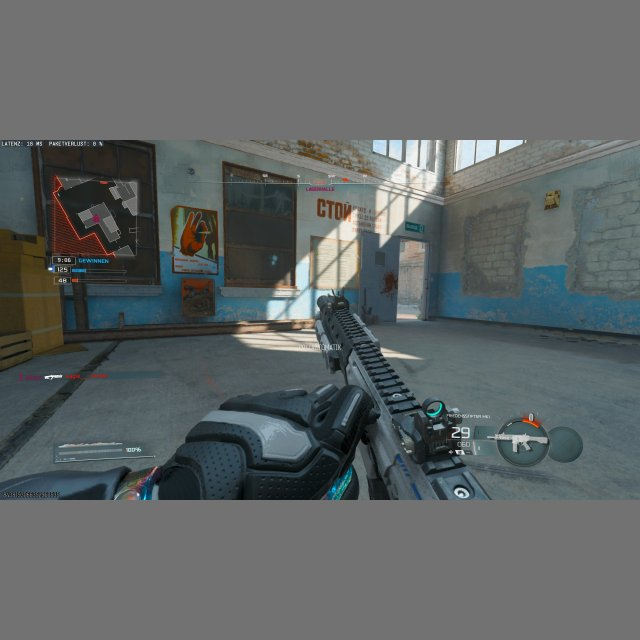player: (381, 270, 397, 299)
